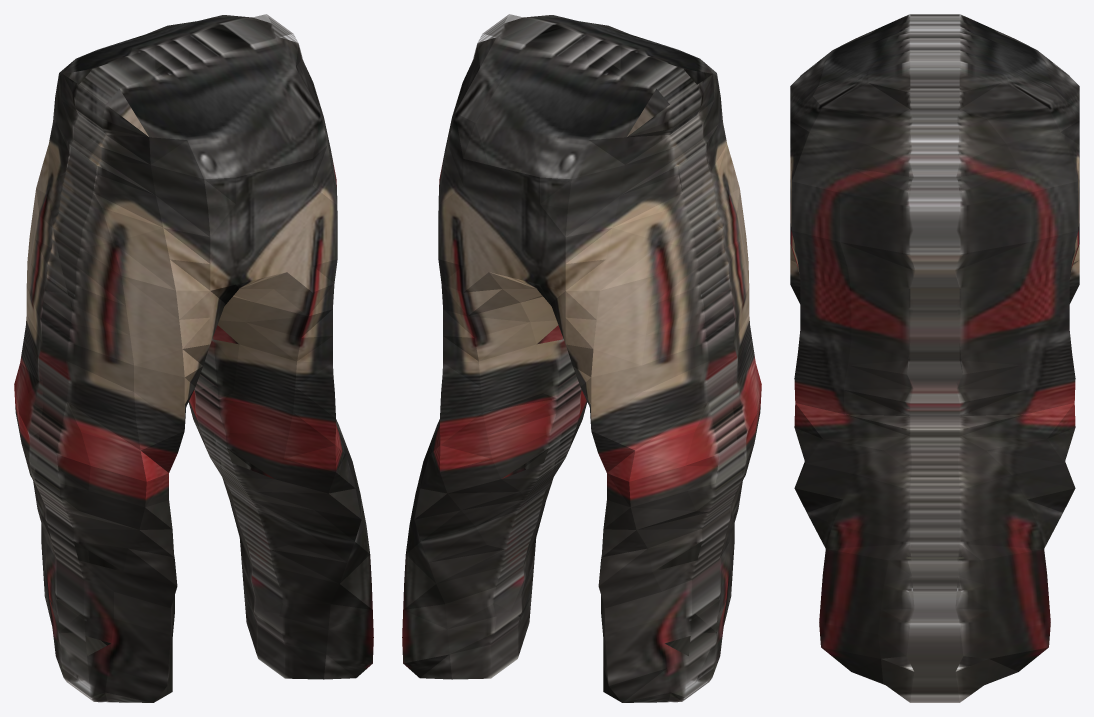
File: agv-apex-riding-trouser-031.glb
The picture shows the model from 3 angles, left to right: view 1: azimuth 30°, elevation 25°; view 2: azimuth 150°, elevation 25°; view 3: azimuth 270°, elevation 25°; orthographic projection. The views are drawn at different scales.
Visible parts, largest first — view 1: world; view 2: world; view 3: world.
Part boxes in pixels (box(x1,y1,x2,y2)): world: box(14, 14, 373, 702); world: box(402, 14, 761, 702); world: box(790, 14, 1079, 702).
Bounding box in the file's own units: 0.4876 × 1 × 0.44.
Materials: 1 (1 with a texture image).
